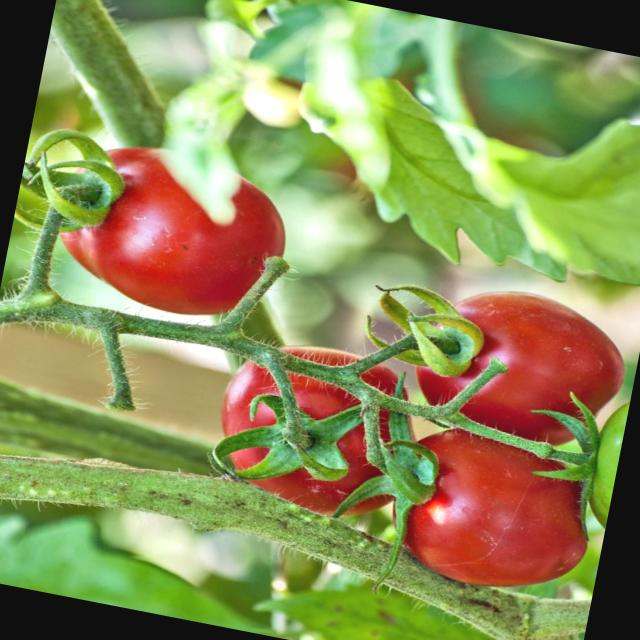tomato: (18, 130, 292, 332), (372, 416, 594, 613), (402, 275, 634, 458), (205, 327, 400, 526)
